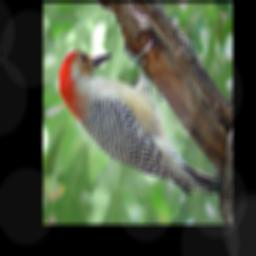Woodpecker: (56, 38, 223, 200)
